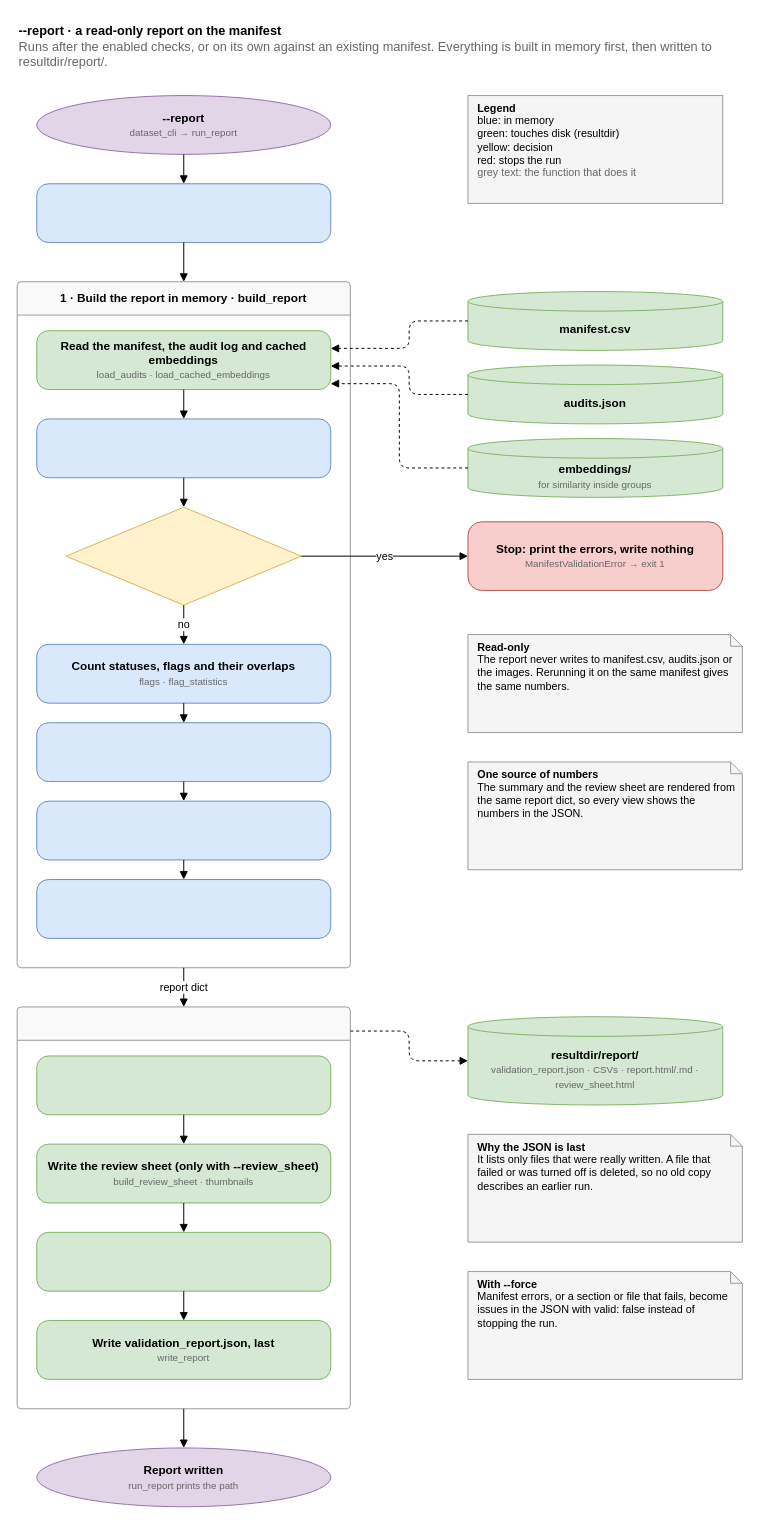
Image size: 779x1524. Some labels were removed from this diagram. Here are the shapes that lost their labels. From the top down, the box of each, then its label:
(36, 183, 331, 243): Turn the report flags into settings ReportConfig · --force, --review_sheet
(36, 418, 331, 478): Check the manifest for errors validate_manifest
(65, 506, 301, 605): Errors, and no --force?
(36, 722, 331, 782): Describe the files: sizes, formats, folders, metrics profile · dataset_profile
(36, 800, 331, 860): Describe the duplicate groups at each level duplicates · duplicate_statistics
(36, 879, 331, 938): List which checks ran, with which settings checks · summarize_checks
(36, 1055, 331, 1115): Write the CSV exports write_exports · ok / review / drop / duplicate_groups
(16, 1006, 350, 1409): 2 · Write the files · generate_report
(36, 1231, 331, 1291): Write the summary pages write_summary · report.html, report.md
